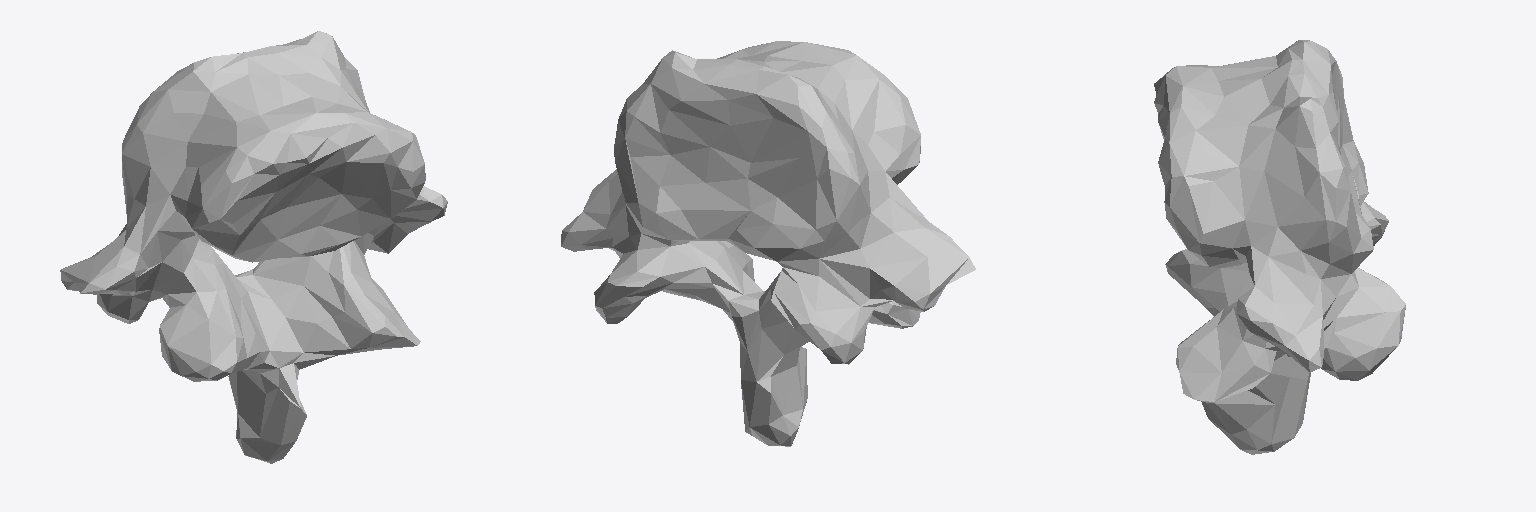
Rendered from transformed_Segment_24.obj.
The picture shows the model from 3 angles: view 1: azimuth 30°, elevation 25°; view 2: azimuth 150°, elevation 25°; view 3: azimuth 270°, elevation 25°; orthographic projection.
Size of the model in its own units: 0.0869 by 0.0858 by 0.0495.